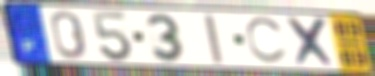0: (49, 9, 89, 61)
3: (143, 12, 188, 64)
5: (90, 9, 135, 63)
C: (244, 16, 290, 66)
I: (201, 13, 226, 66)
X: (284, 16, 339, 69)
